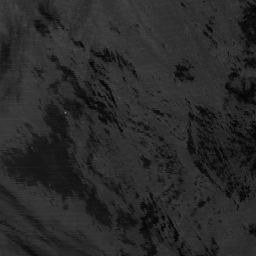Target: (61, 109, 69, 115)
